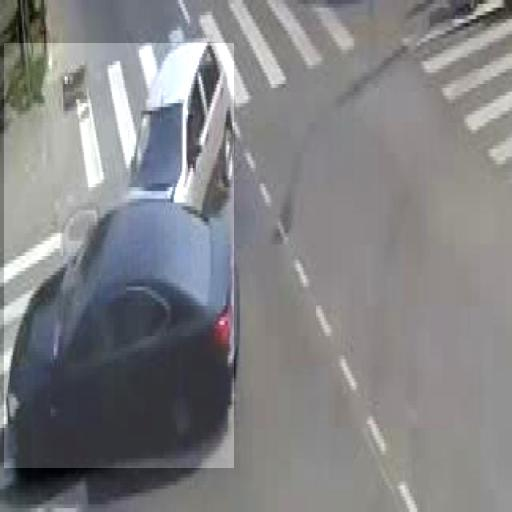小汽车撞小汽车: (4, 43, 234, 468)
